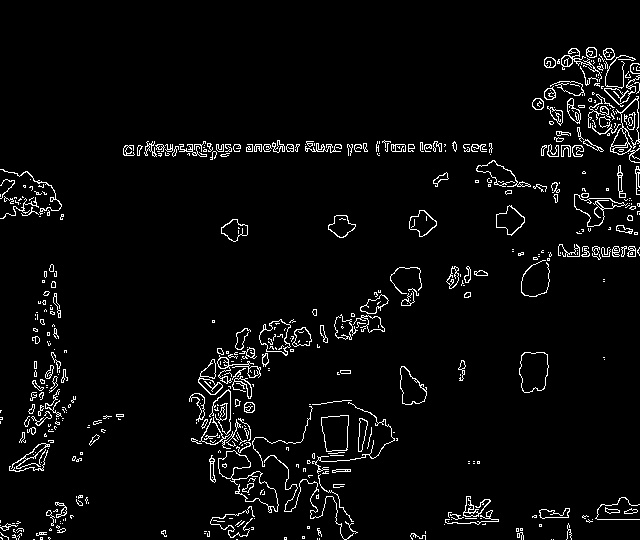down: (323, 210, 359, 246)
left: (214, 214, 257, 249)
right: (402, 205, 443, 245), (489, 200, 529, 238)
